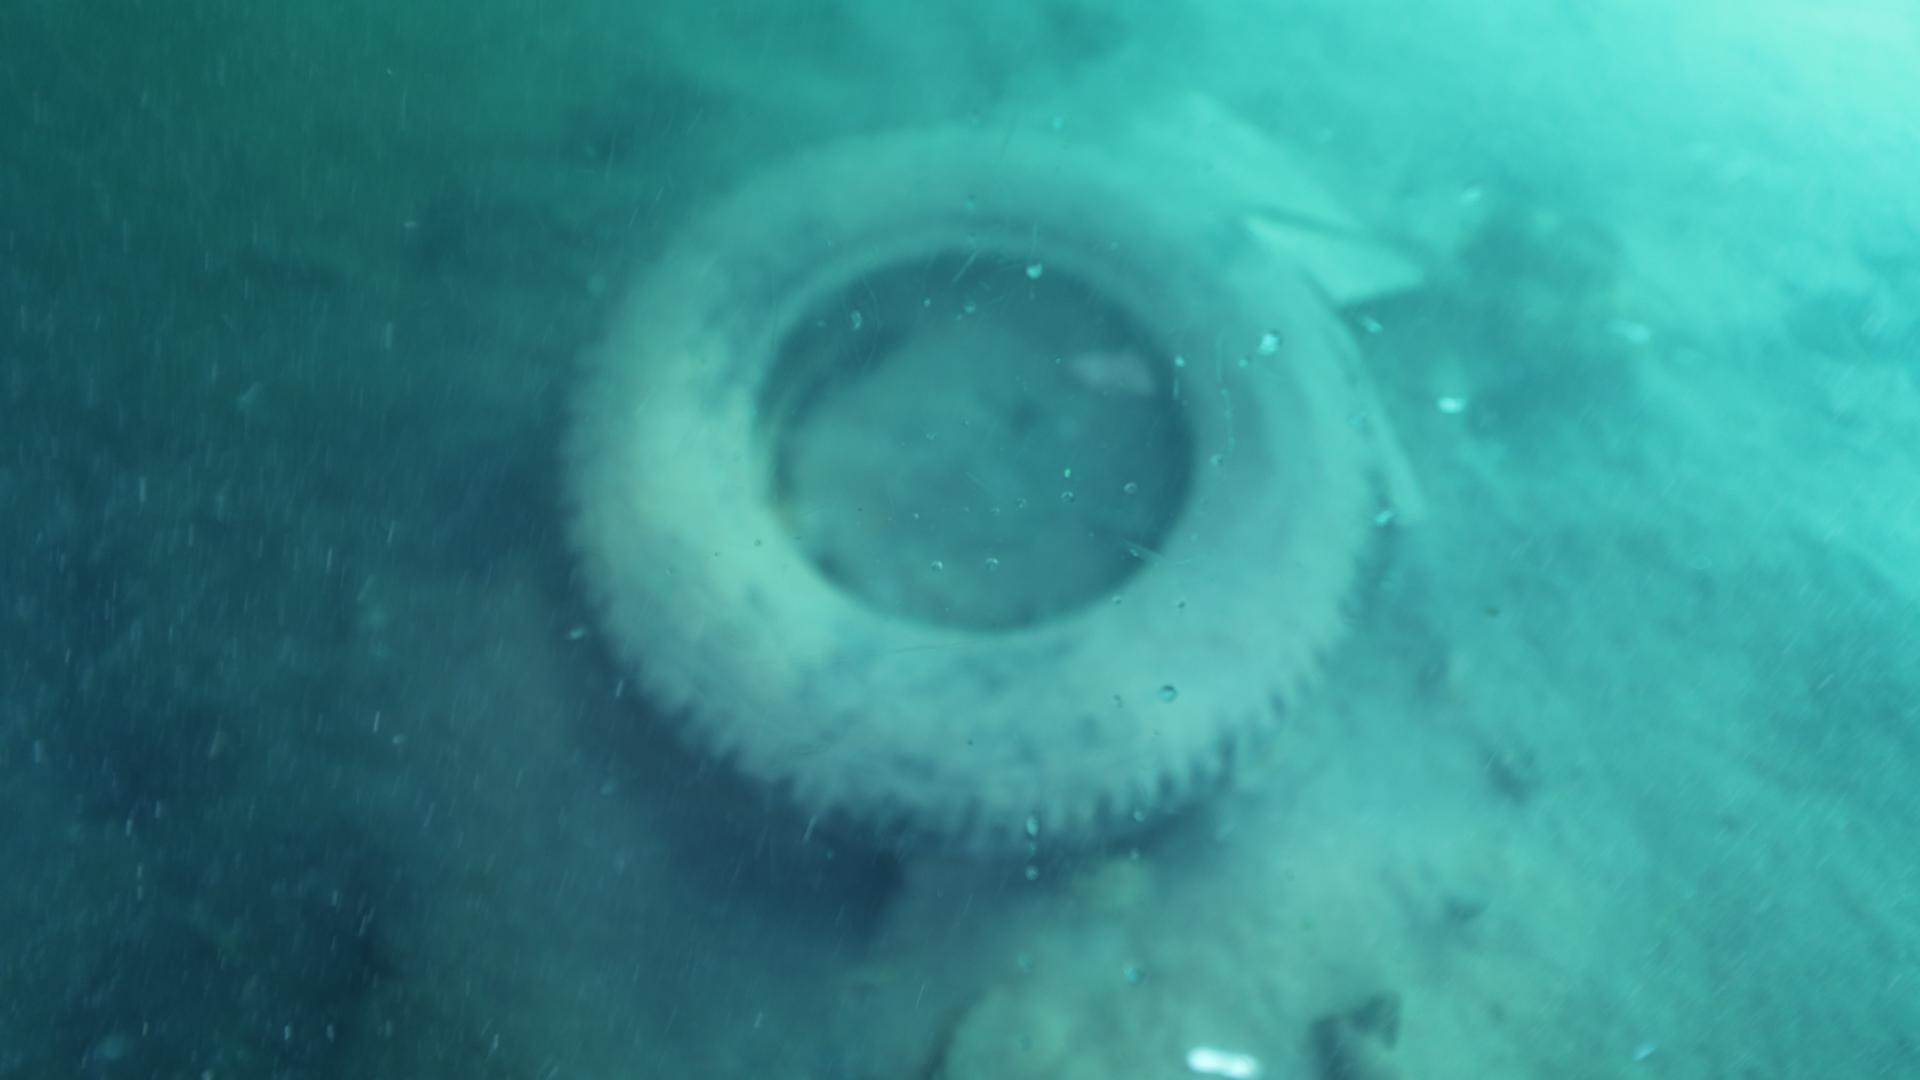tire: (558, 117, 1391, 862)
